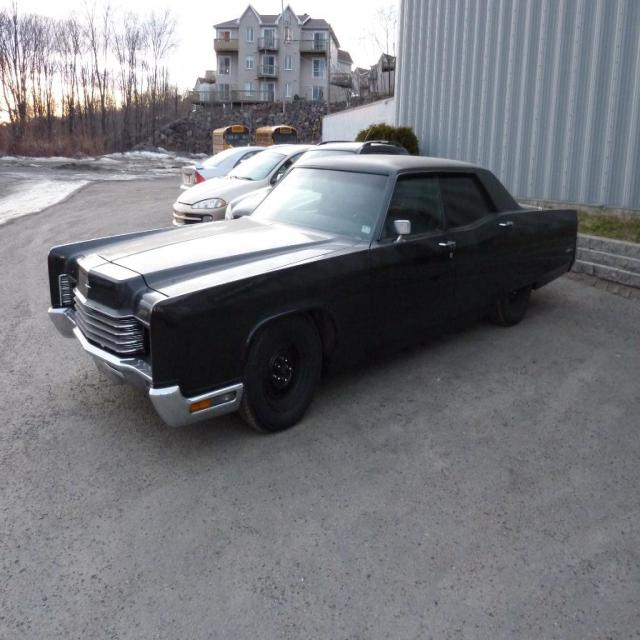car: (51, 144, 581, 428)
